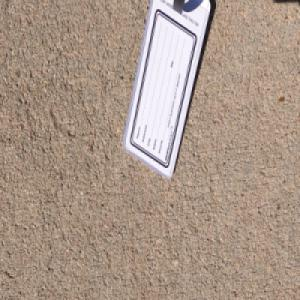LuggageTag: (123, 0, 212, 180)
